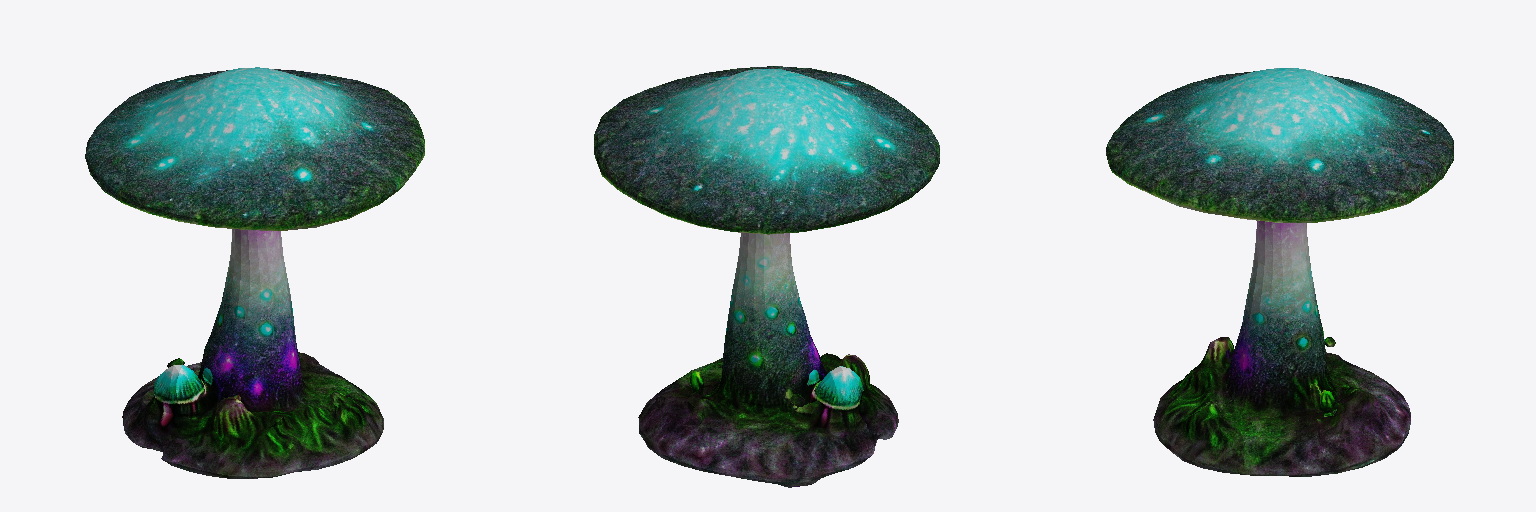
3 views of the same model, side by side, from view 1: azimuth 30°, elevation 25°; view 2: azimuth 150°, elevation 25°; view 3: azimuth 270°, elevation 25° (orthographic).
Visible parts, largest first — view 1: mesh; view 2: mesh; view 3: mesh.
Part boxes in pixels (x1,y1,x2,y2): mesh: (85, 67, 424, 478); mesh: (594, 66, 939, 487); mesh: (1106, 68, 1453, 476).
Bounding box in the file's own units: 0.8941 × 0.9986 × 0.8912.
Materials: 1 (1 with a texture image).